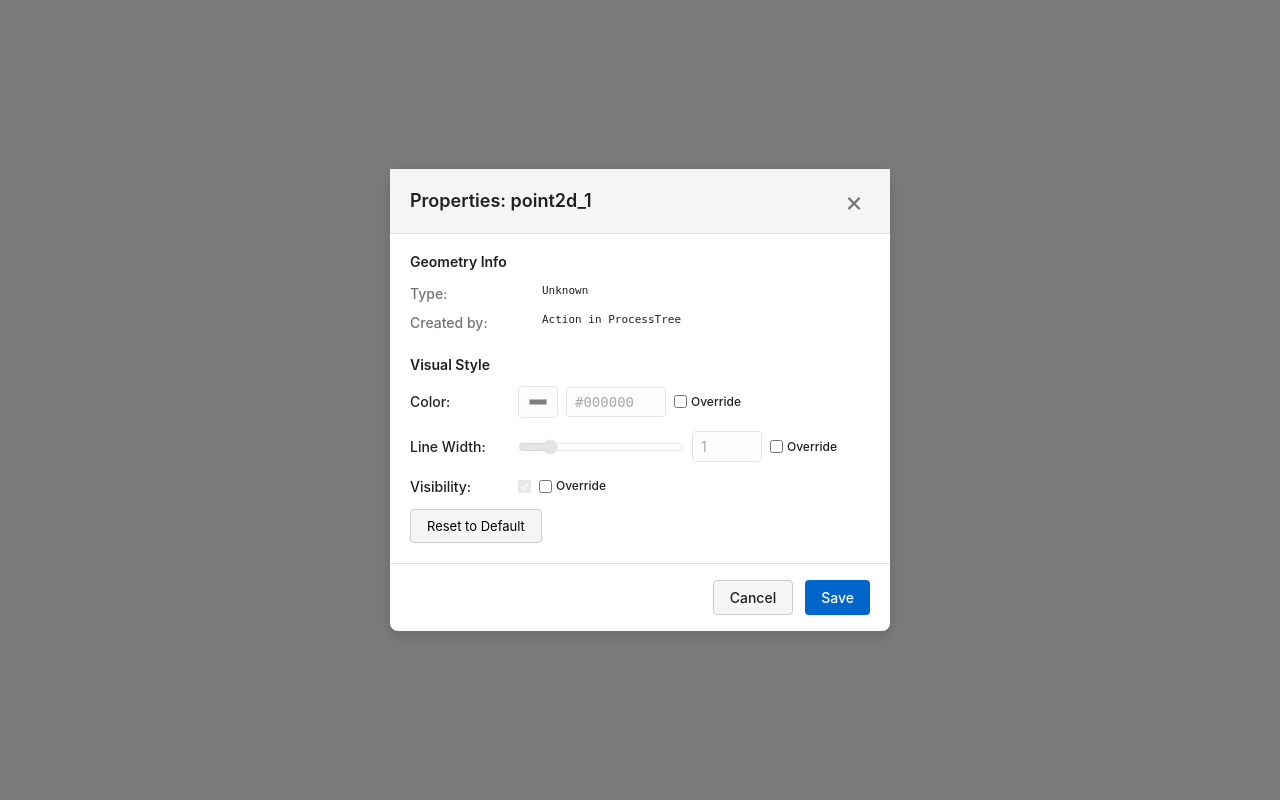
Test case: PropertiesDialog › Style input validation › should validate hex color format
Note: Enable color override
Click the checkbox labelled "Override" in the row of "Color:" at (680, 402), box [674,395,687,408]
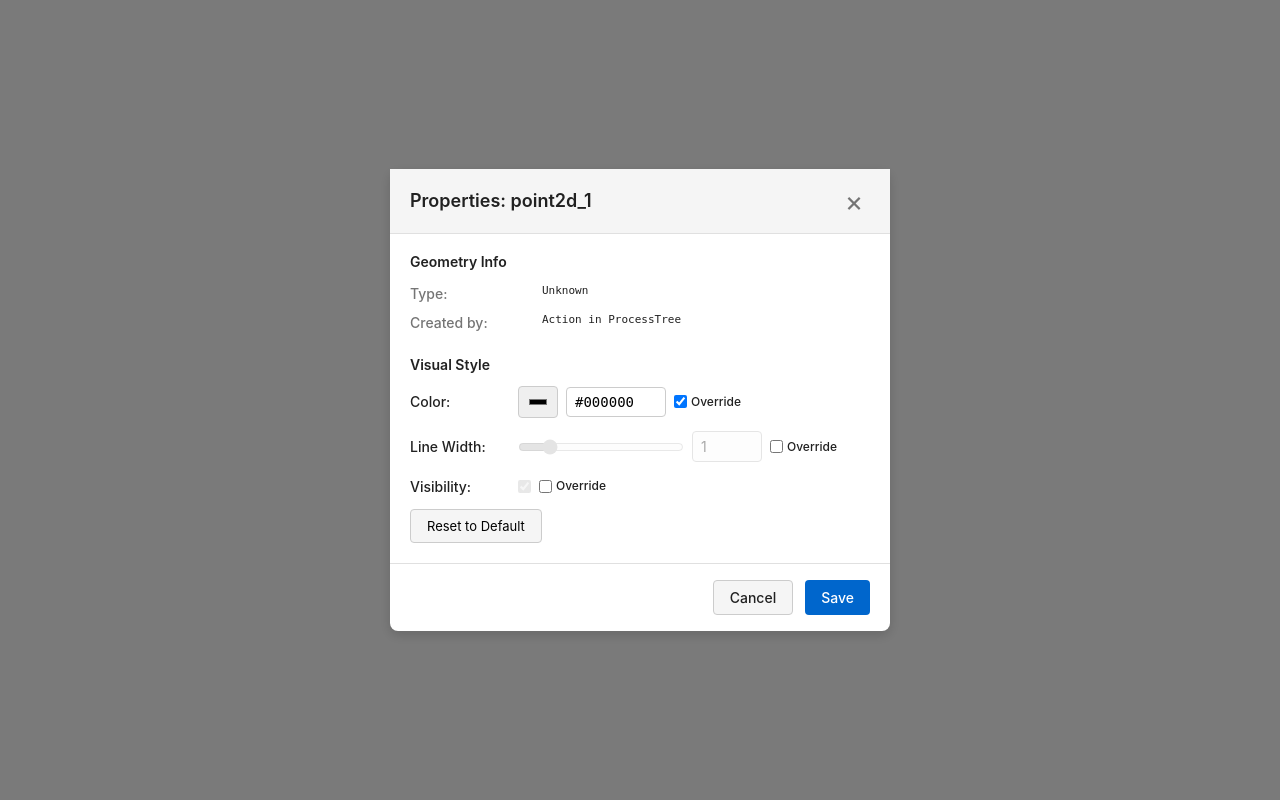
Note: Set invalid color
Type "invalid" into the field with class "hex-input" at (616, 402), box [566,387,666,417]
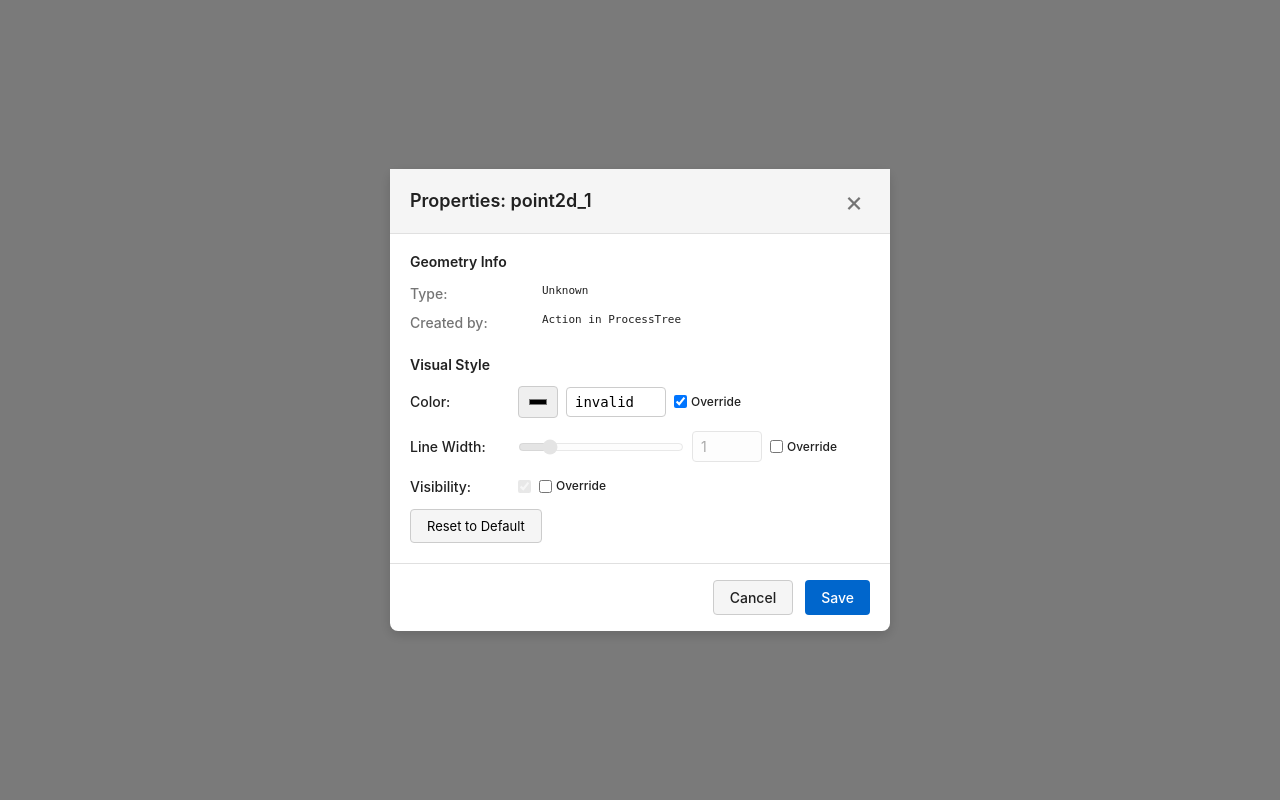
Leave the field with class "hex-input", box [566,387,666,417]
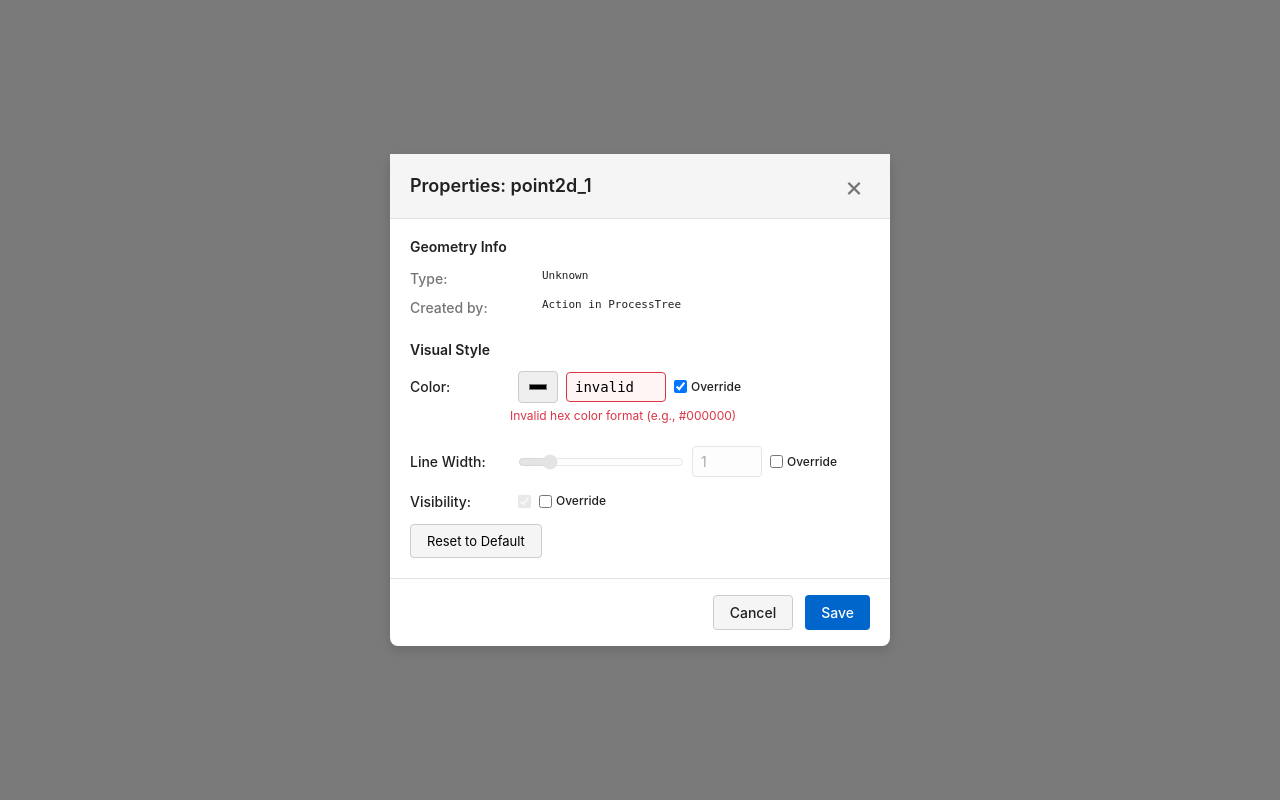
Now the text "Invalid hex color format" is shown, box [510,408,736,423]
